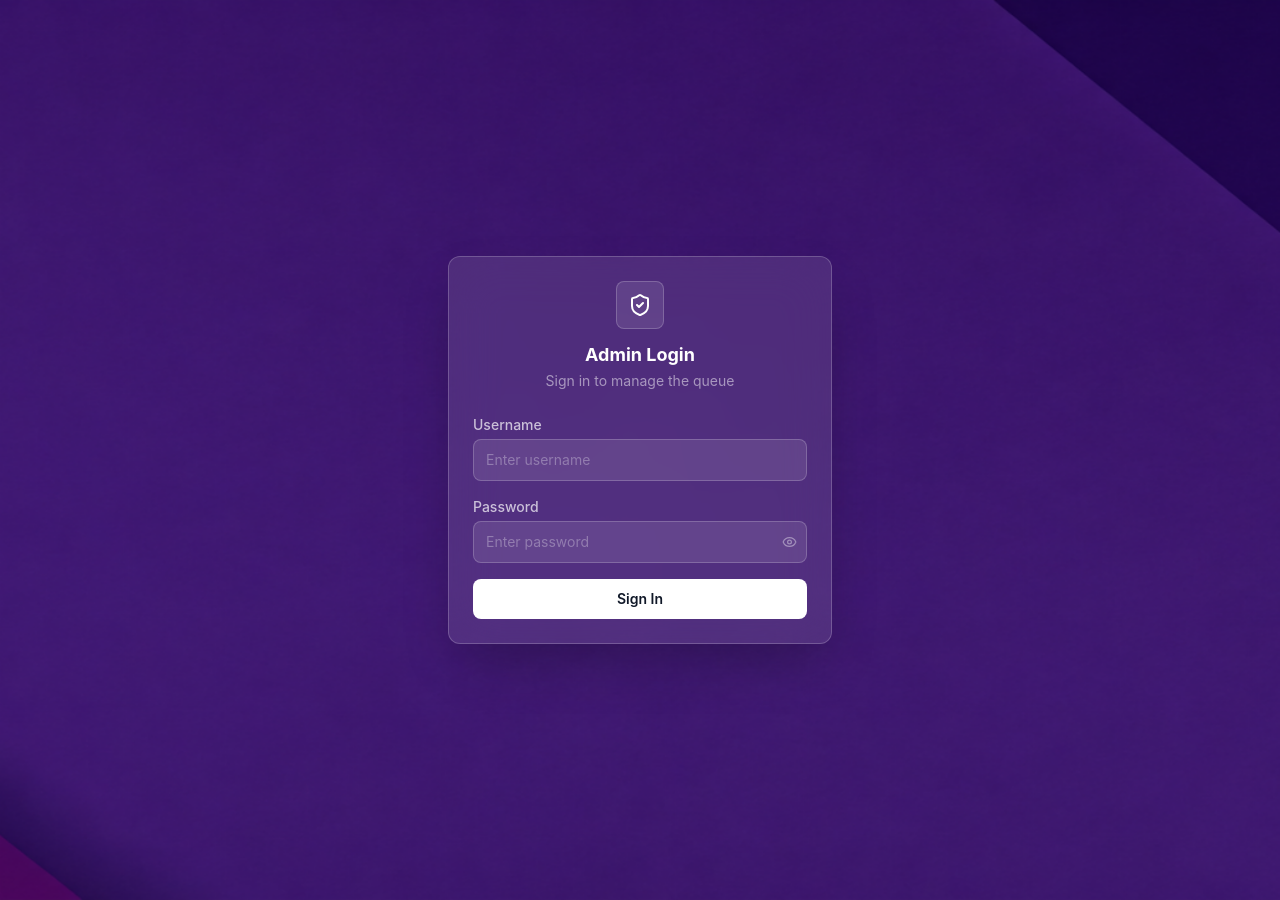
Test: AdminLoginPage › shows error on invalid credentials
The width and height of the screenshot is (1280, 900).
In the field with placeholder "Enter username": {"x": 640, "y": 460} [473,439,807,481], type "wrong"
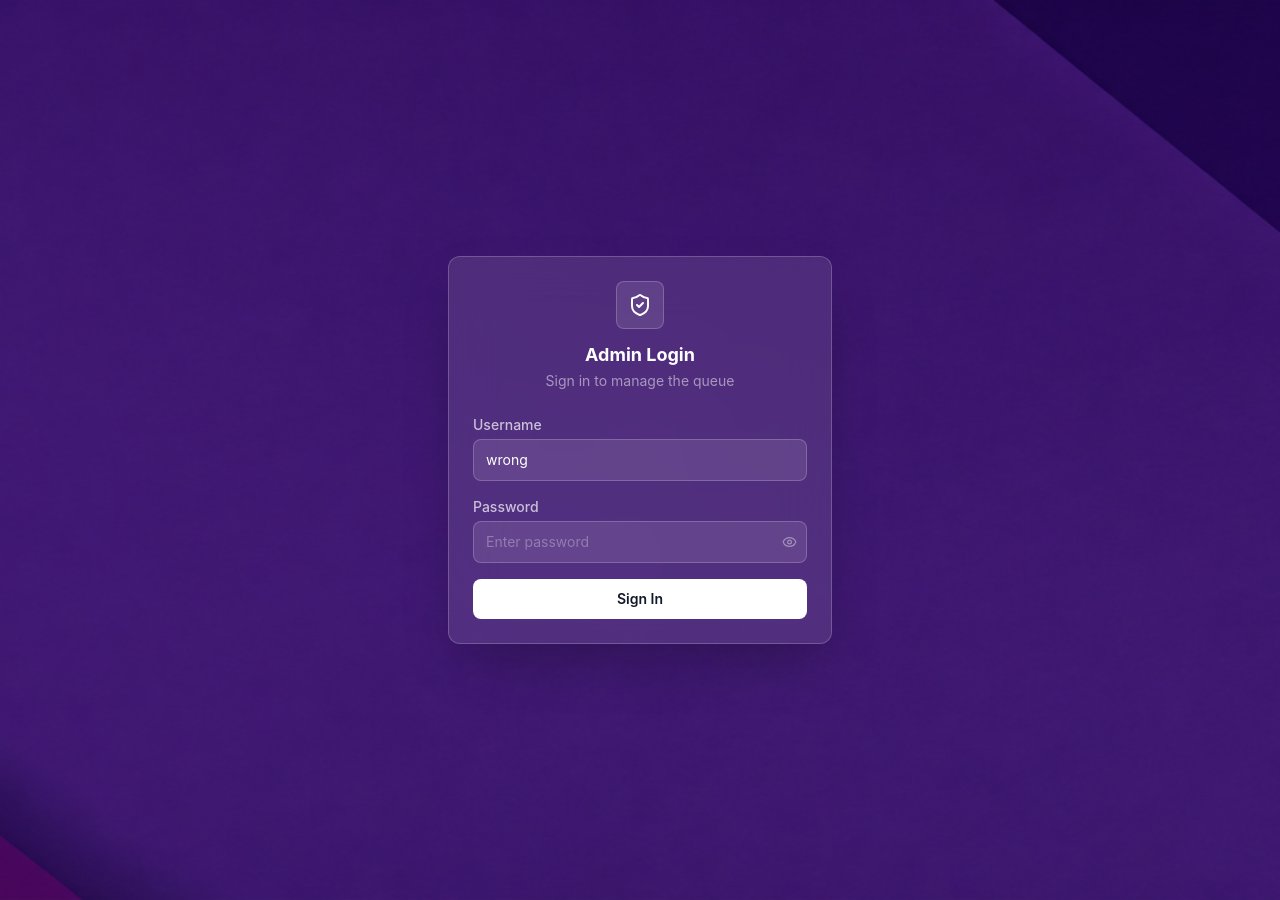
In the password field with placeholder "Enter password": {"x": 640, "y": 542} [473,521,807,563], type "wrong"
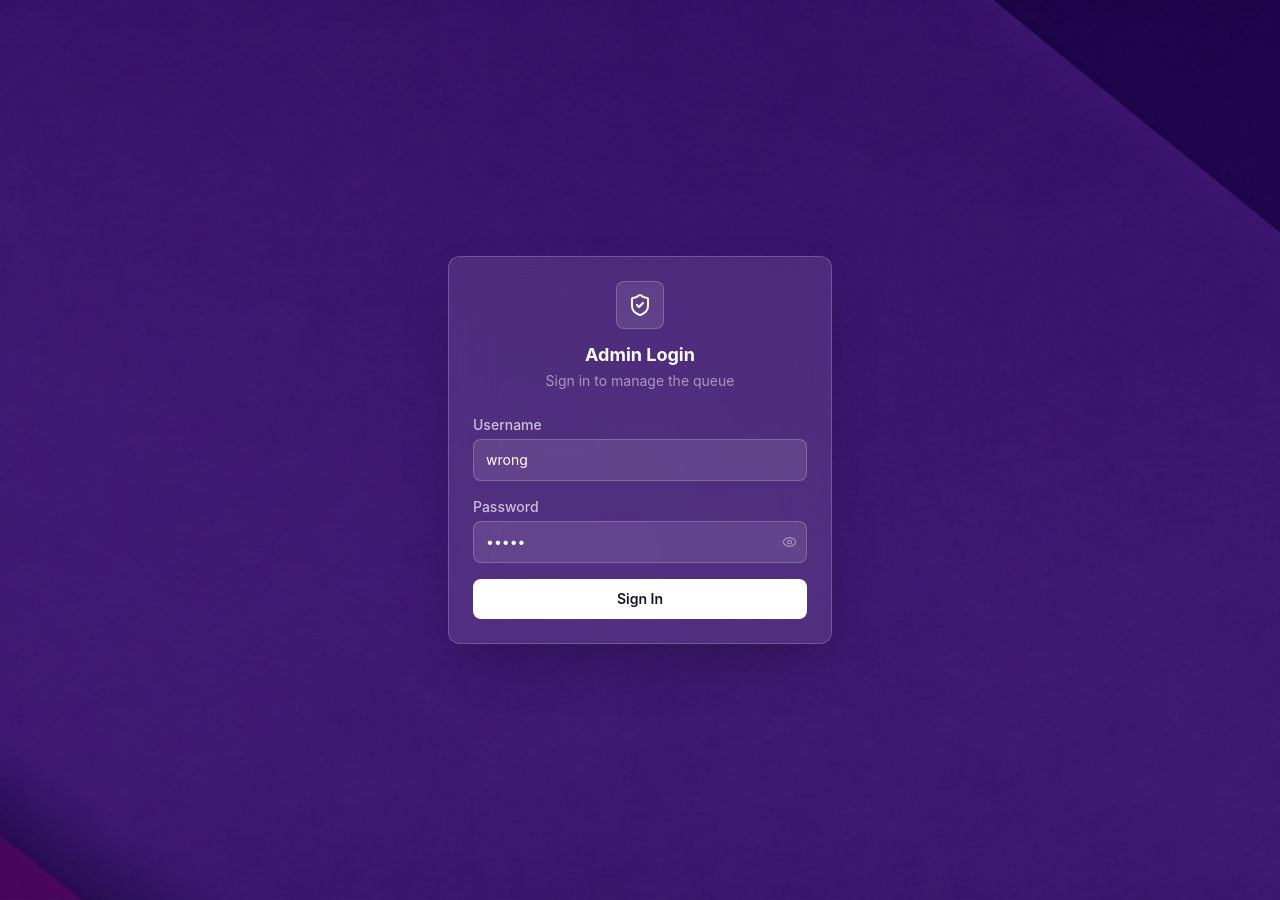
Click the button "Sign In": {"x": 640, "y": 599} [473,579,807,619]
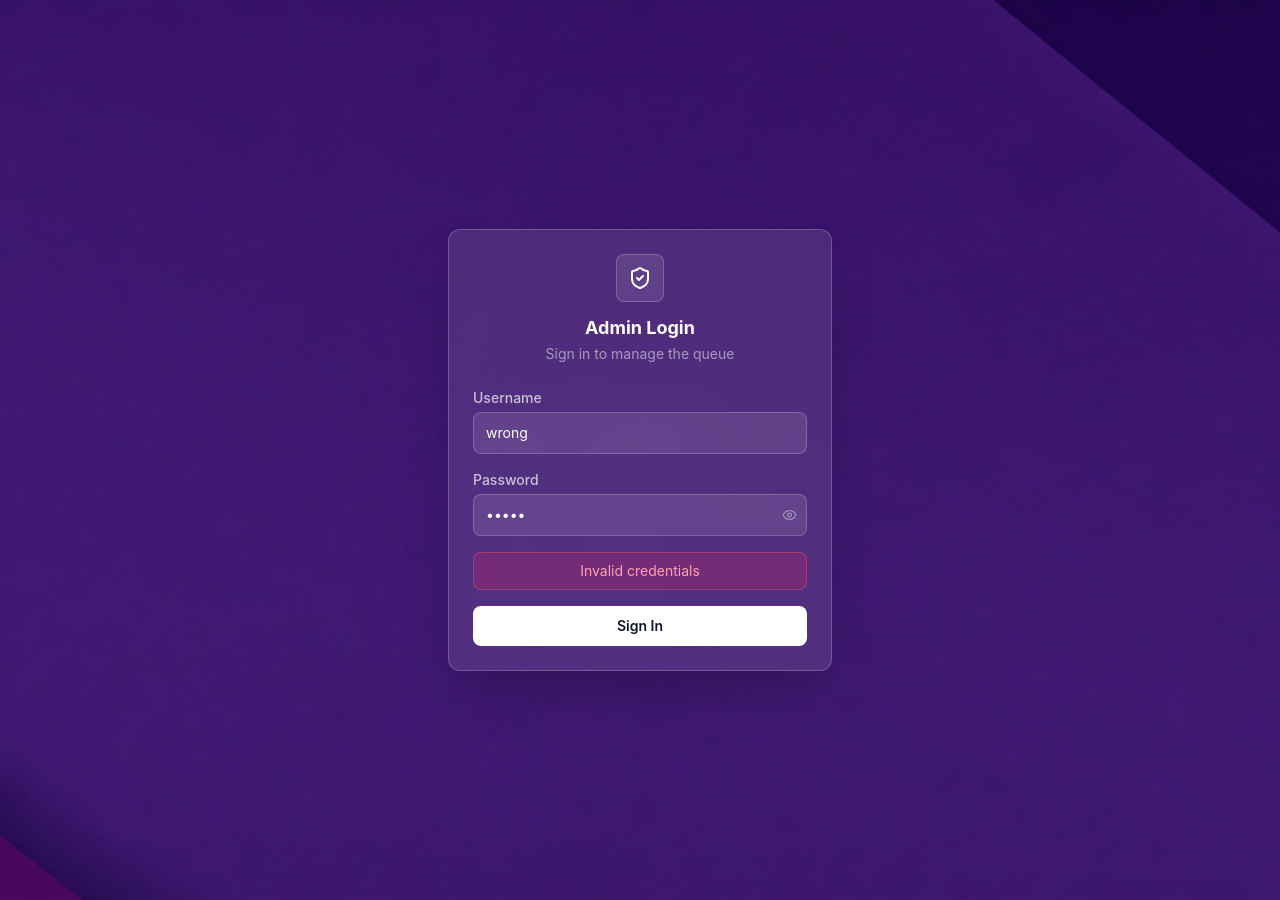
Now the text "Invalid credentials" is shown, box [473,552,807,590]
